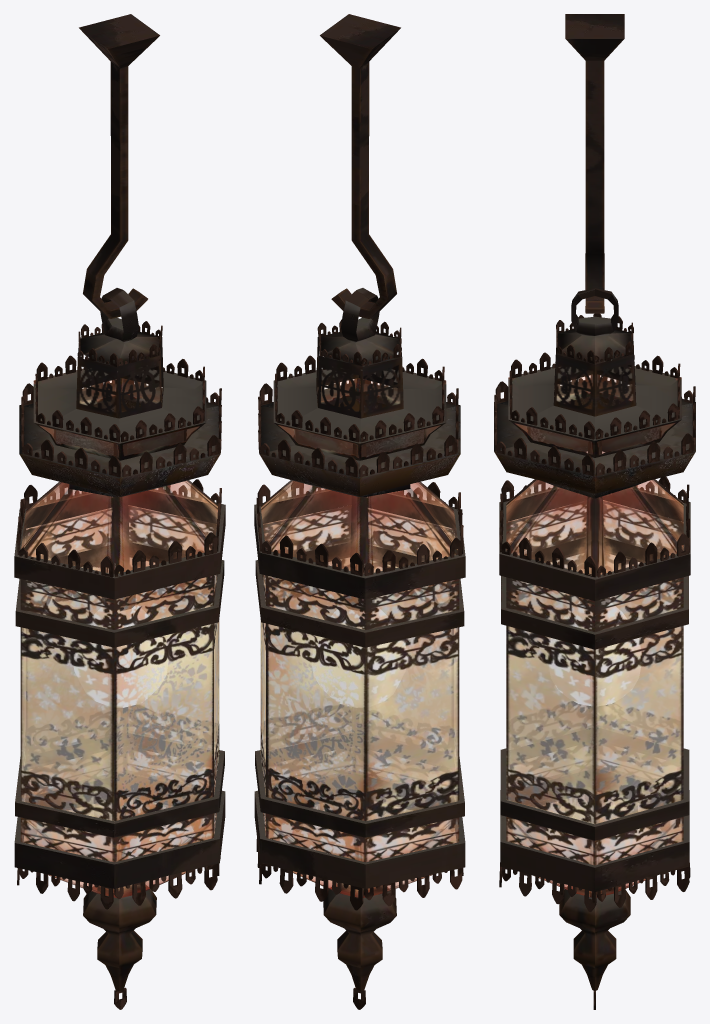
File: ornate-tunisian-hanging-lamp.glb
The picture shows the model from 3 angles, left to right: view 1: azimuth 30°, elevation 25°; view 2: azimuth 150°, elevation 25°; view 3: azimuth 270°, elevation 25°; orthographic projection.
Visible parts, largest first — view 1: body_lanternsurface_0, body_black_metal1_0, detail25_detailmetal_0, body_top_bottom_0, body_top_top_0, hanger_metal_hanger_0, body_toptoptop_0, body_bottom_minneret_0, light1_light_0, body_metal_ring_0, light1_metal_lightbulb_rod_0; view 2: body_lanternsurface_0, body_black_metal1_0, detail25_detailmetal_0, body_top_bottom_0, body_top_top_0, hanger_metal_hanger_0, body_toptoptop_0, body_bottom_minneret_0, light1_light_0, body_metal_ring_0, light1_metal_lightbulb_rod_0; view 3: body_lanternsurface_0, body_black_metal1_0, detail25_detailmetal_0, body_top_bottom_0, body_top_top_0, hanger_metal_hanger_0, body_toptoptop_0, body_bottom_minneret_0, light1_light_0, body_metal_ring_0, light1_metal_lightbulb_rod_0.
Part boxes in pixels (box(x1,y1,x2,y2)): body_lanternsurface_0: box(20, 480, 219, 897); body_black_metal1_0: box(14, 489, 225, 888); detail25_detailmetal_0: box(17, 319, 221, 1009); body_top_bottom_0: box(19, 382, 220, 496); body_top_top_0: box(33, 367, 206, 460); hanger_metal_hanger_0: box(79, 14, 159, 318); body_toptoptop_0: box(76, 332, 163, 418); body_bottom_minneret_0: box(83, 884, 156, 990); light1_light_0: box(74, 605, 168, 707); body_metal_ring_0: box(100, 288, 138, 342); light1_metal_lightbulb_rod_0: box(105, 443, 135, 609); body_lanternsurface_0: box(260, 480, 459, 897); body_black_metal1_0: box(254, 489, 465, 888); detail25_detailmetal_0: box(256, 317, 463, 1009); body_top_bottom_0: box(259, 382, 460, 496); body_top_top_0: box(273, 365, 446, 460); hanger_metal_hanger_0: box(320, 14, 400, 318); body_toptoptop_0: box(316, 332, 403, 418); body_bottom_minneret_0: box(323, 883, 396, 990); light1_light_0: box(312, 605, 407, 706); body_metal_ring_0: box(341, 288, 379, 342); light1_metal_lightbulb_rod_0: box(344, 443, 374, 610); body_lanternsurface_0: box(506, 451, 683, 897); body_black_metal1_0: box(499, 487, 690, 892); detail25_detailmetal_0: box(494, 313, 695, 1009); body_top_bottom_0: box(494, 380, 695, 498); body_top_top_0: box(508, 360, 681, 457); hanger_metal_hanger_0: box(565, 14, 624, 313); body_toptoptop_0: box(553, 329, 636, 416); body_bottom_minneret_0: box(559, 886, 630, 990); light1_light_0: box(549, 602, 640, 705); body_metal_ring_0: box(571, 288, 618, 336); light1_metal_lightbulb_rod_0: box(580, 441, 609, 606).
Size of the model in its own units: 0.0269 by 0.1191 by 0.0222.
Materials: 11 (10 with a texture image).
